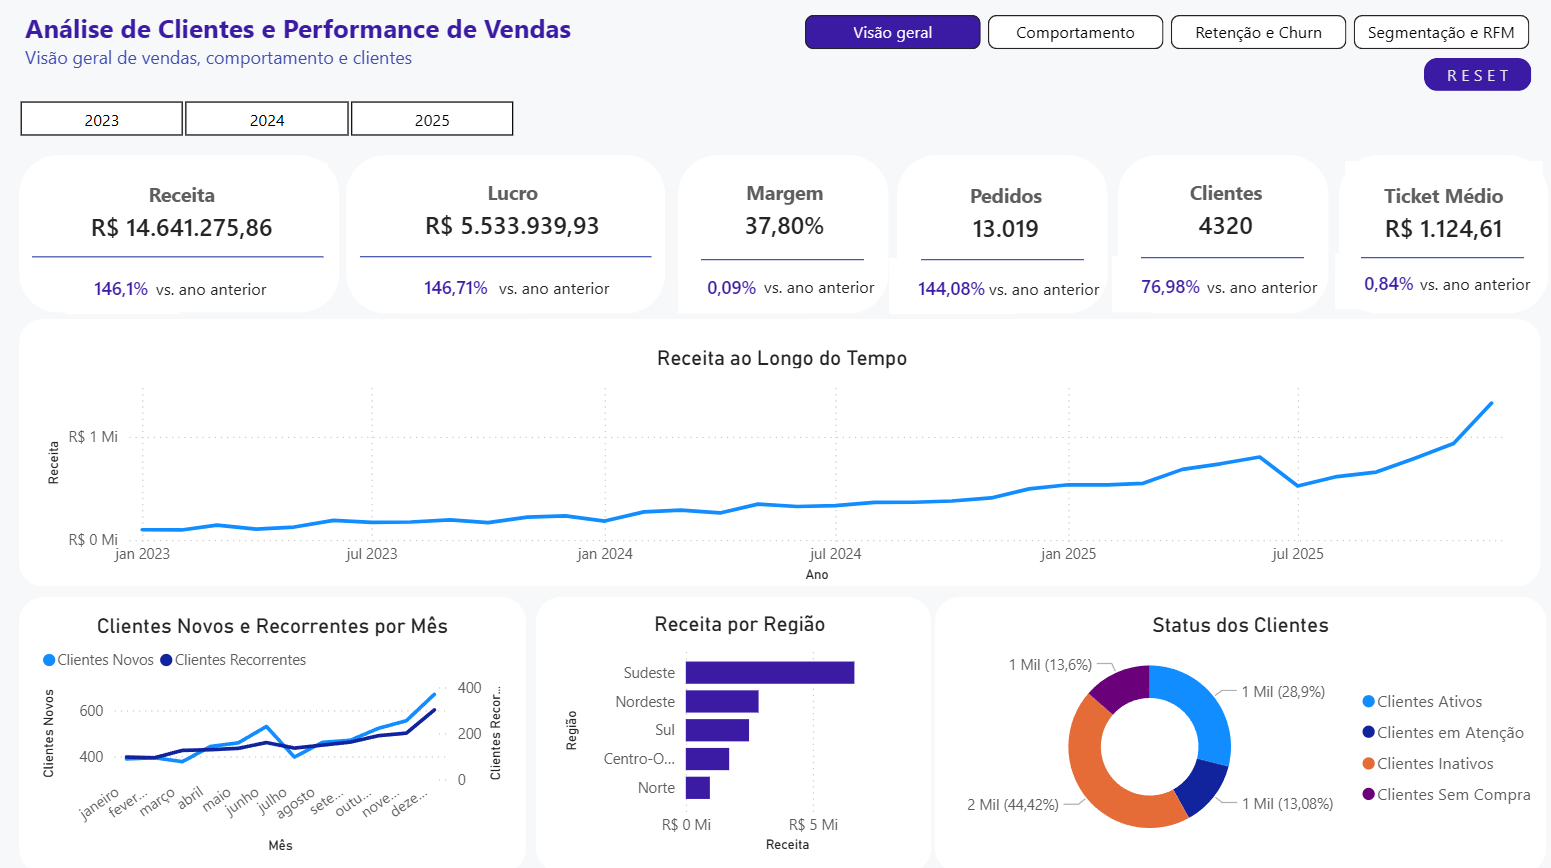

Layout of this report page (visuals, bound fields, positions):
{"tool":"powerbi","page":{"name":"Visão geral ","canvas":[1280,720],"ordinal":0},"visuals":[{"type":"shape","box":[771.2,493.8,501.2,226.2],"z":0},{"type":"shape","box":[444,494,324,226],"z":1000},{"type":"shape","box":[20,493.6,415.7,226.4],"z":2000},{"type":"shape","box":[19.3,265.7,1247.9,219.3],"z":3000},{"type":"shape","box":[920.9,130.9,172.7,130],"z":4000},{"type":"cardVisual","fields":{"Data":["orders.Clientes Compradores"]},"box":[946,129,121,94],"z":5000},{"type":"textbox","box":[19.5,7.6,550.3,58.4],"z":6000},{"type":"slicer","fields":{"Values":["Calendario.Date.Variation.Hierarquia de datas.Ano"]},"box":[0,85,444.4,32.2],"z":7000},{"type":"shape","box":[19.3,131.4,262.9,129.3],"z":8000},{"type":"shape","box":[288.2,130.9,261.8,130],"z":9000},{"type":"cardVisual","fields":{"Data":["orders.Lucro"]},"box":[315,130,214,87],"z":10000},{"type":"shape","box":[560,130.9,172.7,130],"z":11000},{"type":"shape","box":[740,130.9,172.7,130],"z":12000},{"type":"shape","box":[1101.8,130.9,171.8,130],"z":13000},{"type":"cardVisual","fields":{"Data":["orders.Margem"]},"box":[576,132,139,87],"z":14000},{"type":"cardVisual","fields":{"Data":["orders.Ticket Médio"]},"box":[1107,131,162,94],"z":15000},{"type":"cardVisual","fields":{"Data":["orders.Variação Receita YoY"]},"box":[52.7,210.9,105.5,56.4],"z":16000},{"type":"cardVisual","fields":{"Data":["orders.Receita"]},"box":[34,138,239,80],"z":17000},{"type":"textbox","box":[127.3,227.3,125.5,55.5],"z":18000},{"type":"shape","box":[30.6,205,239.4,19.4],"z":19000},{"type":"cardVisual","fields":{"Data":["orders.Variação Lucro YoY"]},"box":[322.7,209.1,113.6,57.3],"z":20000},{"type":"textbox","box":[408.2,226.4,124.5,56.4],"z":21000},{"type":"shape","box":[299.2,205,239.2,19.2],"z":22000},{"type":"cardVisual","fields":{"Data":["orders.Variação Margem YoY"]},"box":[555.4,209.2,110,57.7],"z":23000},{"type":"textbox","box":[625.8,225.8,124.2,56.7],"z":24000},{"type":"shape","box":[579.1,207.3,133.6,19.1],"z":25000},{"type":"cardVisual","fields":{"Data":["orders.Variação Pedidos YoY"]},"box":[728,211,110,56],"z":26000},{"type":"textbox","box":[810,227,124,56],"z":27000},{"type":"cardVisual","fields":{"Data":["orders.Pedidos"]},"box":[759,129,134,94],"z":28000},{"type":"shape","box":[759.1,207.3,133.6,19.1],"z":29000},{"type":"cardVisual","fields":{"Data":["orders.Variação Clientes Compradores YoY"]},"box":[910.9,209.1,110,56.4],"z":30000},{"type":"textbox","box":[989.1,225.5,123.6,55.5],"z":31000},{"type":"shape","box":[940,205.5,133.6,19.1],"z":32000},{"type":"cardVisual","fields":{"Data":["orders.Variação Ticket Médio YoY"]},"box":[1093.6,206.4,110,56.4],"z":33000},{"type":"textbox","box":[1163.6,222.7,104.5,55.5],"z":34000},{"type":"shape","box":[1120,205.5,133.6,19.1],"z":35000},{"type":"lineChart","title":"Receita ao Longo do Tempo","fields":{"Category":["Calendario.Date.Variation.Hierarquia de datas.Ano","Calendario.Date.Variation.Hierarquia de datas.Trimestre","Calendario.Date.Variation.Hierarquia de datas.Mês"],"Y":["orders.Receita"]},"box":[37.8,286.7,1215.6,198.9],"z":36000},{"type":"clusteredBarChart","title":"Receita por Região","fields":{"Category":["clientes.region"],"Y":["orders.Receita"]},"box":[462.2,505.6,296.7,202.2],"z":37000},{"type":"donutChart","title":"Status dos Clientes","fields":{"Y":["orders.Clientes Ativos","orders.Clientes em Atenção","orders.Clientes Inativos","orders.Clientes Sem Compra"]},"box":[768,506,506,202],"z":38000},{"type":"lineChart","title":"Clientes Novos e Recorrentes por Mês","fields":{"Category":["Calendario.Date.Variation.Hierarquia de datas.Mês"],"Y2":["orders.Clientes Recorrentes"],"Y":["orders.Clientes Novos"]},"box":[33.6,506.4,387.9,201.4],"z":39000},{"type":"actionButton","title":"RESET","box":[1172,52,88,27],"z":39001},{"type":"pageNavigator","box":[664,16,596,28],"z":39002}]}

Visuals, with their boxes in screenshot pixels (x1, y1, x2, y2), scaled from the page's 1280x720 canvas onto the 1551x868 screenshot:
shape: (left=934, top=595, right=1542, bottom=867)
shape: (left=538, top=596, right=931, bottom=867)
shape: (left=24, top=595, right=528, bottom=867)
shape: (left=23, top=320, right=1535, bottom=585)
shape: (left=1116, top=158, right=1325, bottom=315)
cardVisual - orders.Clientes Compradores: (left=1146, top=156, right=1293, bottom=269)
textbox: (left=24, top=9, right=690, bottom=80)
slicer - Calendario.Date.Variation.Hierarquia de datas.Ano: (left=0, top=102, right=538, bottom=141)
shape: (left=23, top=158, right=342, bottom=314)
shape: (left=349, top=158, right=666, bottom=315)
cardVisual - orders.Lucro: (left=382, top=157, right=641, bottom=262)
shape: (left=679, top=158, right=888, bottom=315)
shape: (left=897, top=158, right=1106, bottom=315)
shape: (left=1335, top=158, right=1543, bottom=315)
cardVisual - orders.Margem: (left=698, top=159, right=866, bottom=264)
cardVisual - orders.Ticket Médio: (left=1341, top=158, right=1538, bottom=271)
cardVisual - orders.Variação Receita YoY: (left=64, top=254, right=192, bottom=322)
cardVisual - orders.Receita: (left=41, top=166, right=331, bottom=263)
textbox: (left=154, top=274, right=306, bottom=341)
shape: (left=37, top=247, right=327, bottom=271)
cardVisual - orders.Variação Lucro YoY: (left=391, top=252, right=529, bottom=321)
textbox: (left=495, top=273, right=645, bottom=341)
shape: (left=363, top=247, right=652, bottom=270)
cardVisual - orders.Variação Margem YoY: (left=673, top=252, right=806, bottom=322)
textbox: (left=758, top=272, right=909, bottom=341)
shape: (left=702, top=250, right=864, bottom=273)
cardVisual - orders.Variação Pedidos YoY: (left=882, top=254, right=1015, bottom=322)
textbox: (left=981, top=274, right=1132, bottom=341)
cardVisual - orders.Pedidos: (left=920, top=156, right=1082, bottom=269)
shape: (left=920, top=250, right=1082, bottom=273)
cardVisual - orders.Variação Clientes Compradores YoY: (left=1104, top=252, right=1237, bottom=320)
textbox: (left=1199, top=272, right=1348, bottom=339)
shape: (left=1139, top=248, right=1301, bottom=271)
cardVisual - orders.Variação Ticket Médio YoY: (left=1325, top=249, right=1458, bottom=317)
textbox: (left=1410, top=268, right=1537, bottom=335)
shape: (left=1357, top=248, right=1519, bottom=271)
"Receita ao Longo do Tempo" lineChart: (left=46, top=346, right=1519, bottom=585)
"Receita por Região" clusteredBarChart: (left=560, top=610, right=920, bottom=853)
"Status dos Clientes" donutChart: (left=931, top=610, right=1544, bottom=854)
"Clientes Novos e Recorrentes por Mês" lineChart: (left=41, top=610, right=511, bottom=853)
"RESET" actionButton: (left=1420, top=63, right=1527, bottom=95)
pageNavigator: (left=805, top=19, right=1527, bottom=53)
